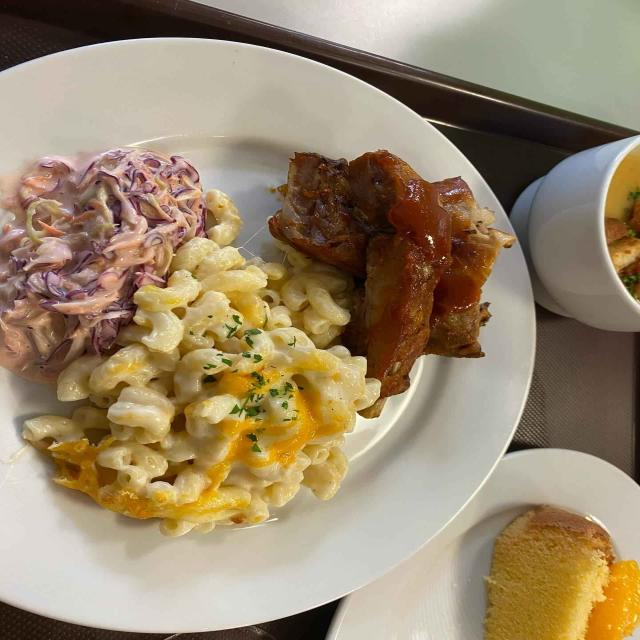chicken: (269, 150, 514, 400)
pasta: (23, 191, 380, 536), (0, 148, 206, 385)
plate: (0, 39, 535, 631)
